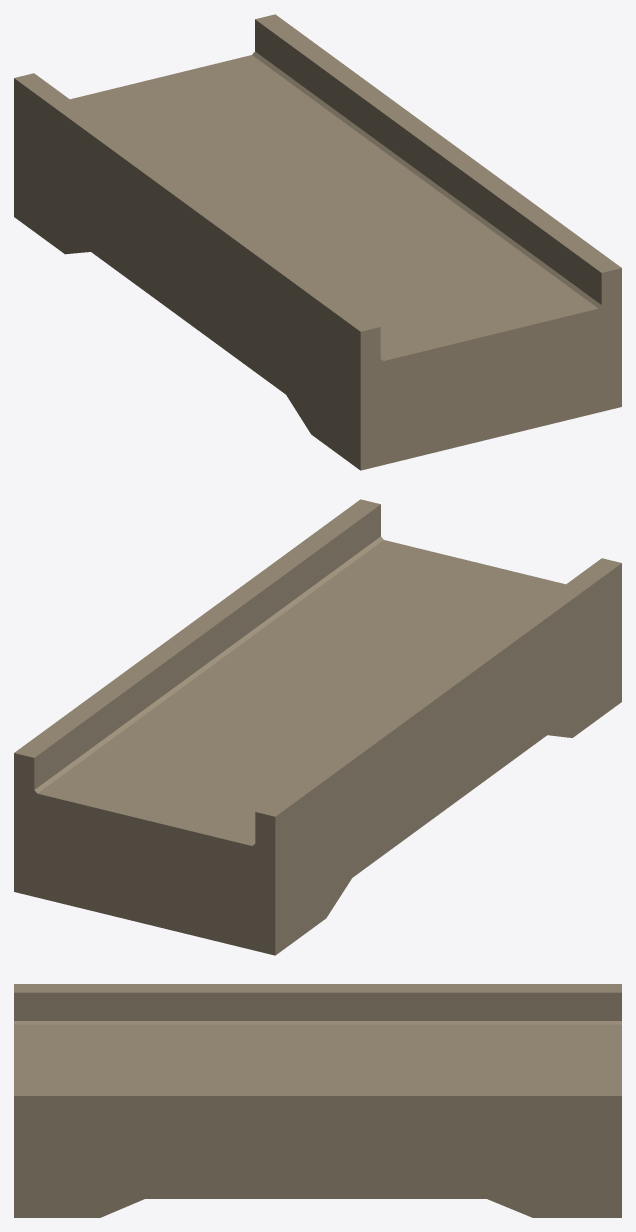
File: Ponte.fbx
3 views of the same model, one above another, from view 1: azimuth 30°, elevation 25°; view 2: azimuth 150°, elevation 25°; view 3: azimuth 270°, elevation 25° (orthographic). The views are drawn at different scales.
Visible parts, largest first — view 1: Ponte; view 2: Ponte; view 3: Ponte.
Boxes of the visible parts, x1,y1,x2,y2 form: Ponte: (14, 14, 621, 470); Ponte: (14, 499, 621, 955); Ponte: (14, 984, 621, 1217).
Size of the model in its own units: 6.4 by 3.25 by 14.7.
